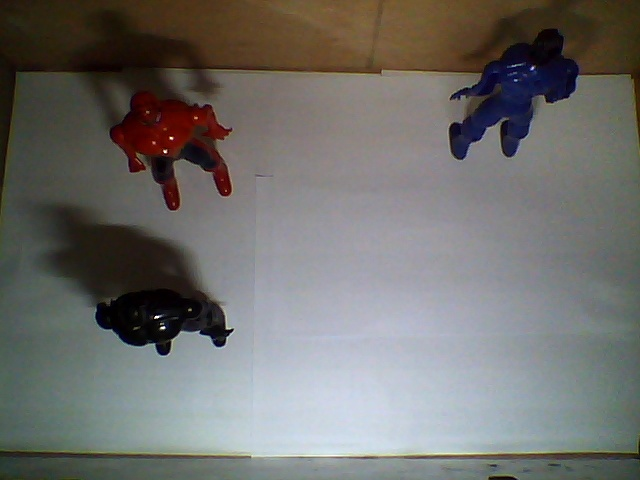human_figure: (449, 29, 580, 161), (109, 88, 234, 212), (94, 292, 236, 359)
